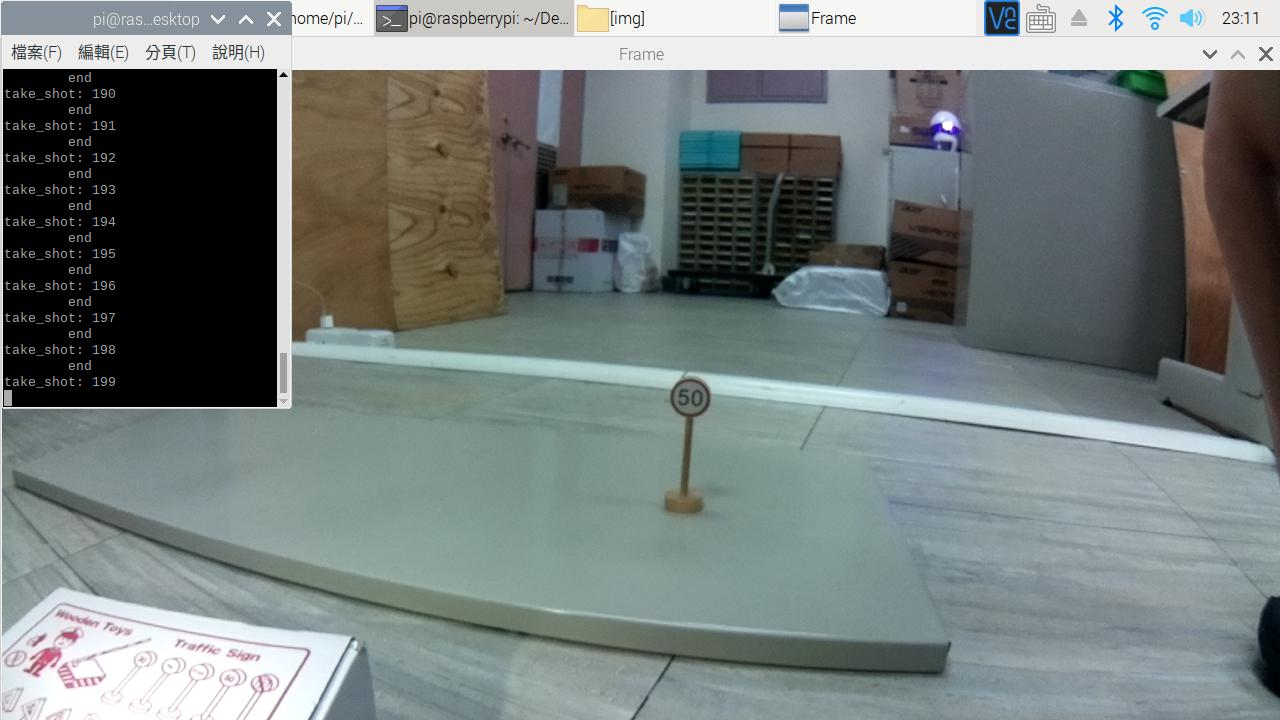Speed50: (652, 377, 730, 431)
